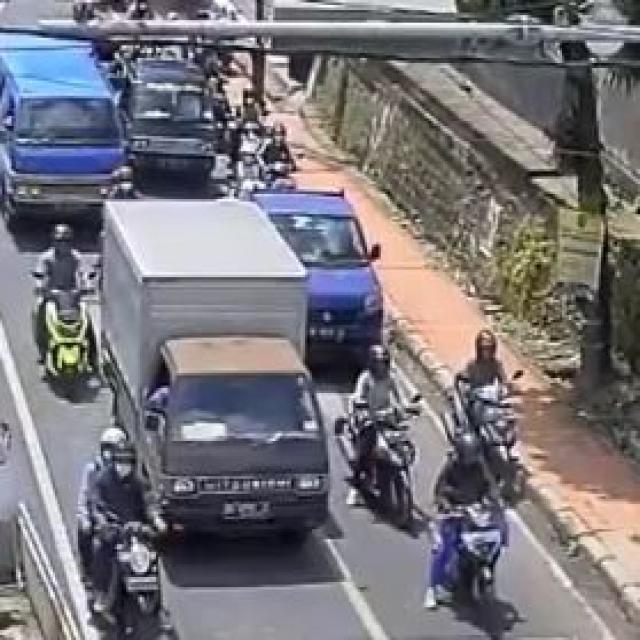car: (98, 201, 328, 543), (2, 41, 137, 230), (133, 61, 211, 176)
motorbike: (54, 420, 185, 640), (427, 442, 520, 628), (330, 344, 424, 528), (442, 319, 541, 484), (14, 223, 88, 389), (0, 42, 4, 44)
